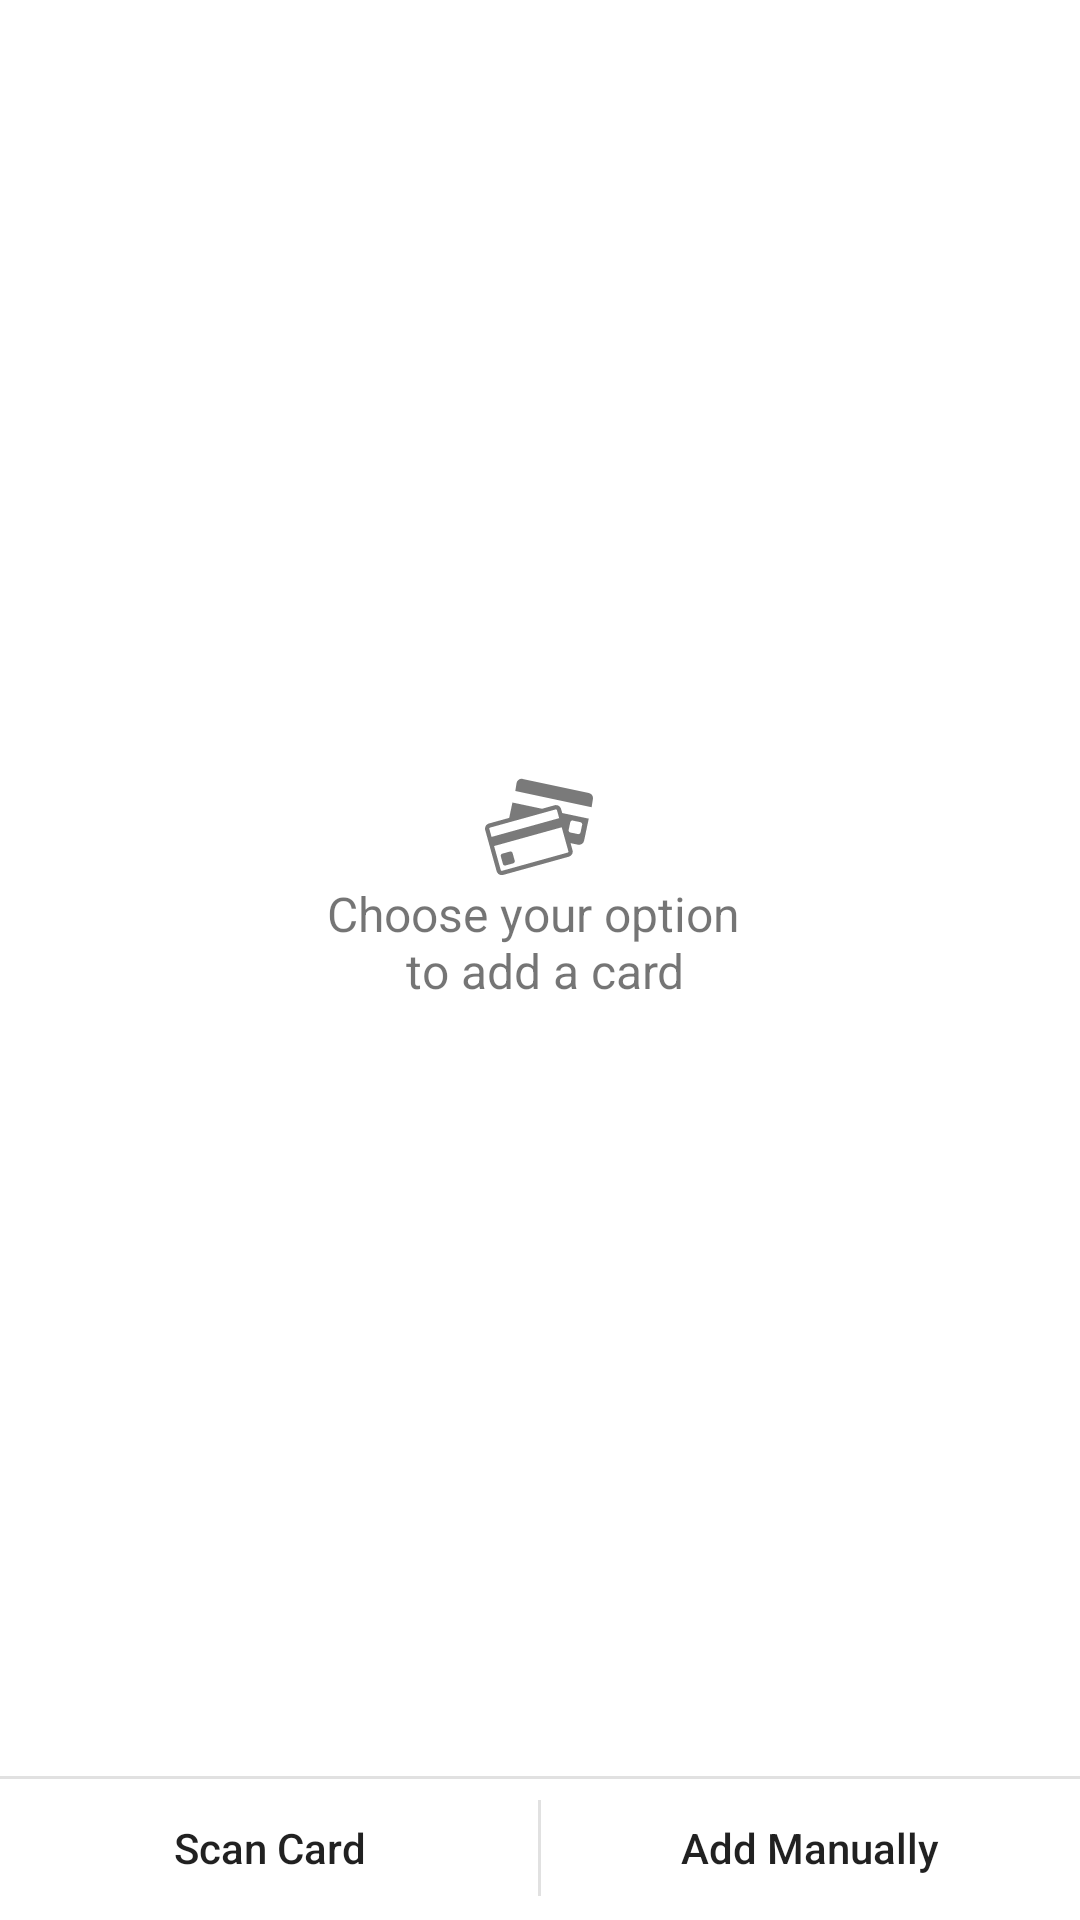

Named icons in this screenshot (1080x1920) and their centers, point (x, y):
credit cards payment: point (539, 826)
